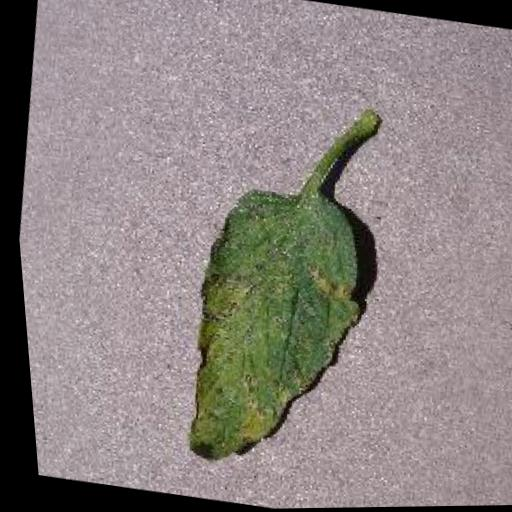Septoria: (159, 182, 377, 483)
